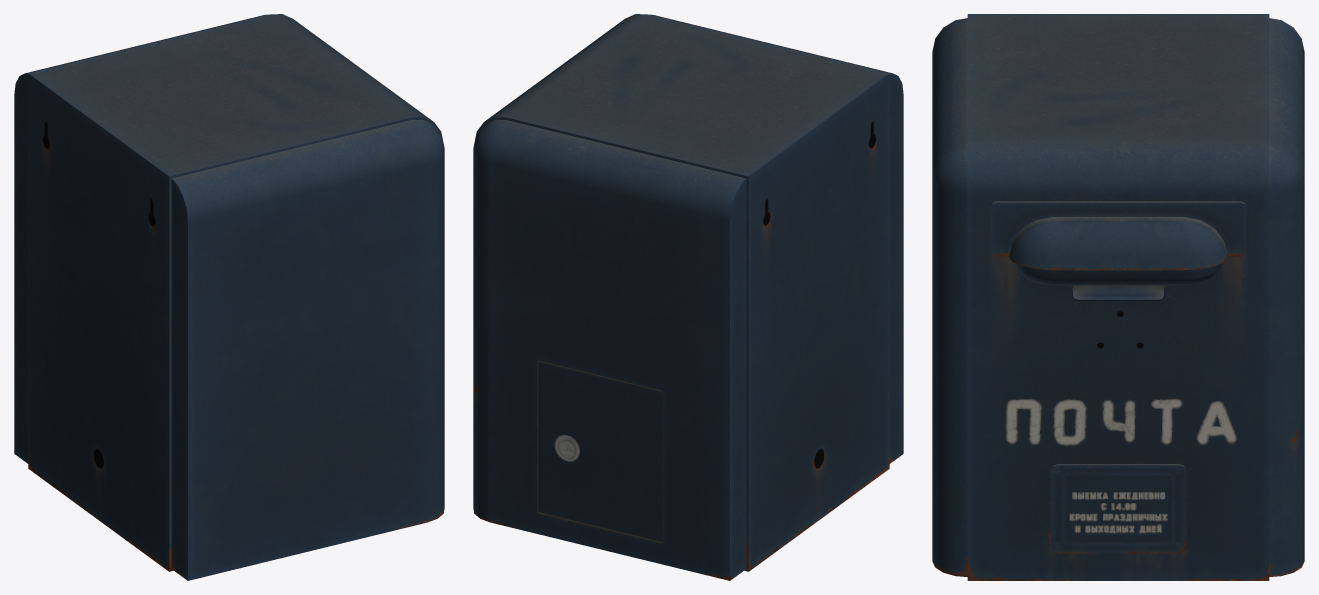
3 renders of one model, left to right at view 1: azimuth 30°, elevation 25°; view 2: azimuth 150°, elevation 25°; view 3: azimuth 270°, elevation 25°, orthographic. The views are drawn at different scales.
Visible parts, largest first — view 1: MailBox_0; view 2: MailBox_0; view 3: MailBox_0.
Part boxes in pixels (x1,y1,x2,y2): MailBox_0: (14,14,444,580); MailBox_0: (473,14,903,580); MailBox_0: (932,14,1304,580).
Size of the model in its own units: 29.31 by 36.46 by 29.04.
1 material, 1 textured.
